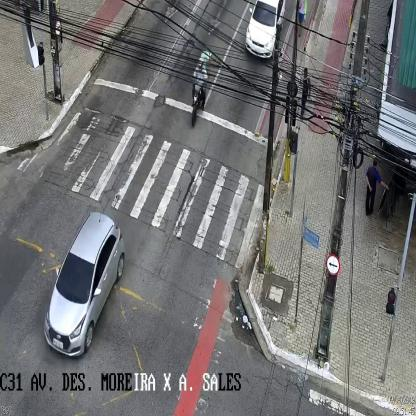car: (43, 213, 124, 358), (245, 0, 286, 60)
motorbike: (191, 48, 212, 126)
person: (365, 155, 389, 218), (301, 64, 311, 119)
